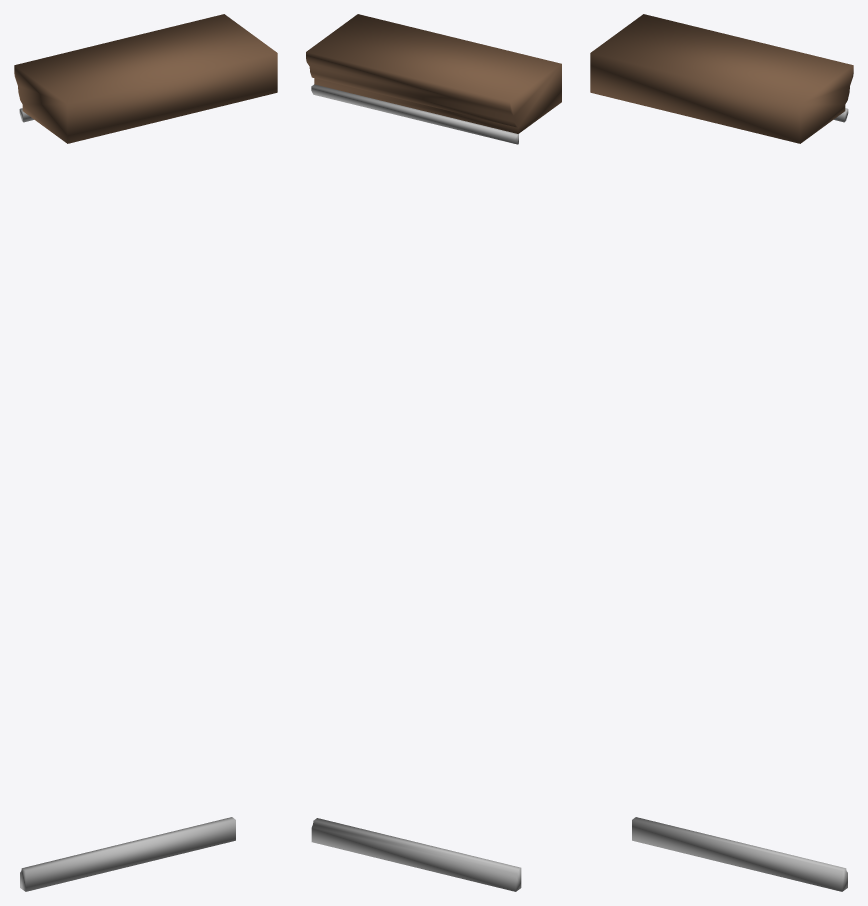
The model's file is lib_cornice.glb.
3 renders of one model, left to right at view 1: azimuth 30°, elevation 25°; view 2: azimuth 150°, elevation 25°; view 3: azimuth 330°, elevation 25°, orthographic. The views are drawn at different scales.
Visible parts, largest first — view 1: lib_cornice; view 2: lib_cornice; view 3: lib_cornice.
Part boxes in pixels (bbox=[...]): lib_cornice: bbox=[14, 14, 277, 891]; lib_cornice: bbox=[306, 14, 561, 891]; lib_cornice: bbox=[590, 14, 853, 891].
Size of the model in its own units: 1 by 3.72 by 0.44.
